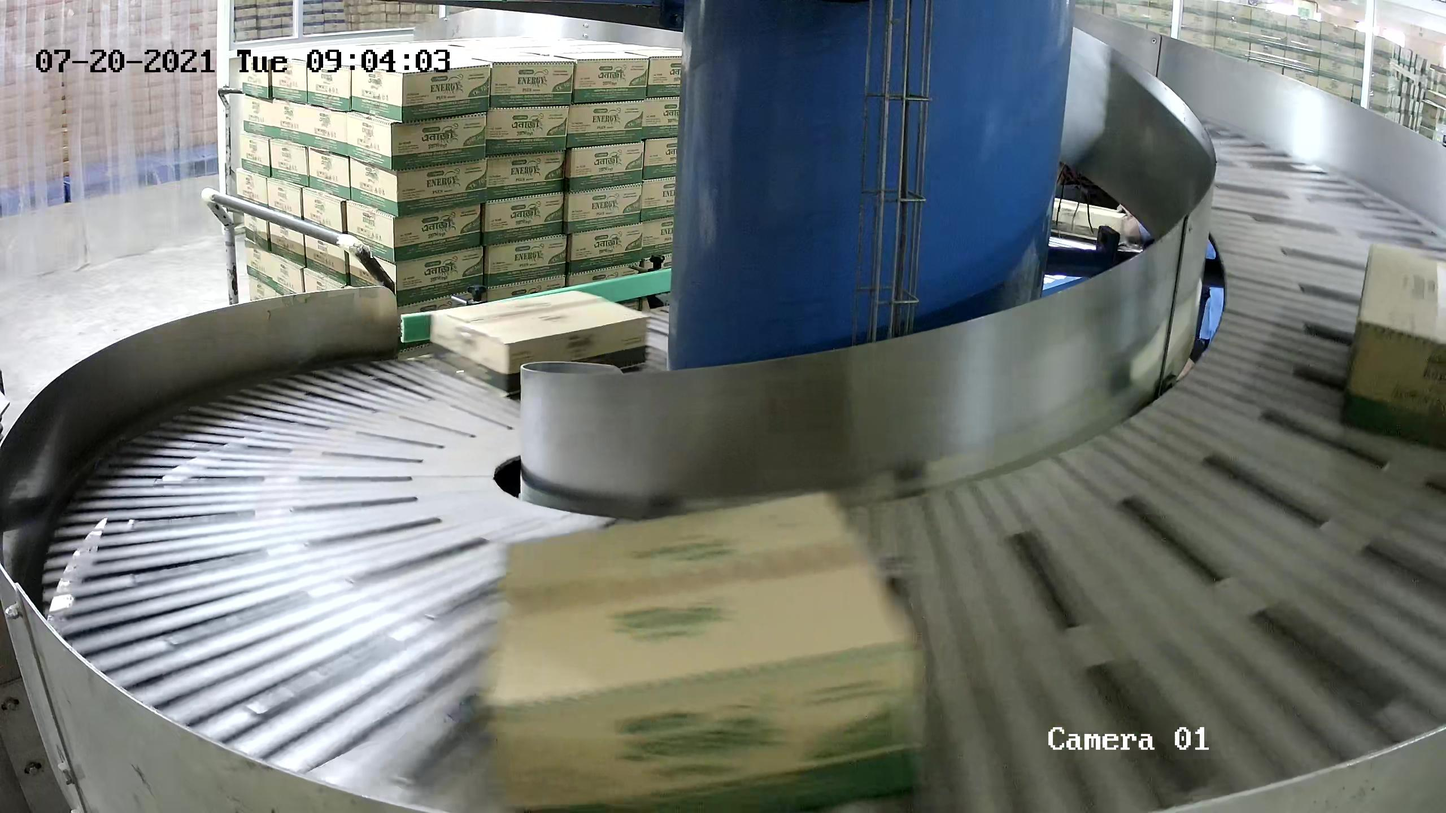Box: (483, 491, 926, 813), (430, 289, 648, 397), (1338, 243, 1446, 455)
